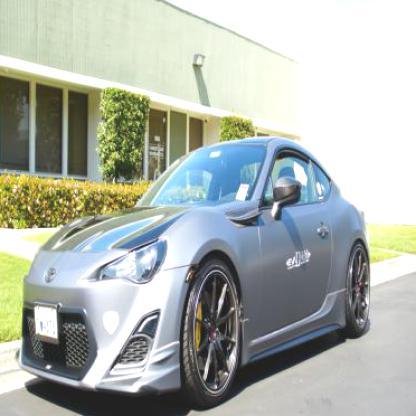car: (29, 127, 371, 408)
